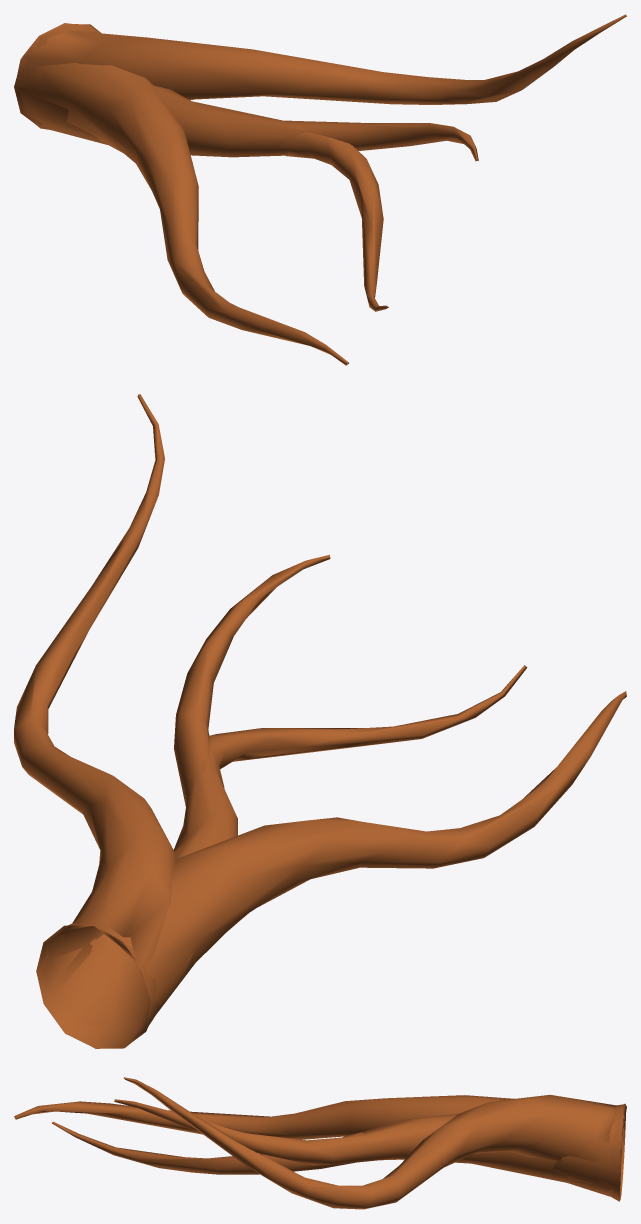
The model's file is arrayan_branch_2_LOD.fbx.
3 renders of one model, top to bottom at view 1: azimuth 30°, elevation 25°; view 2: azimuth 150°, elevation 25°; view 3: azimuth 270°, elevation 25°, orthographic. The views are drawn at different scales.
Visible parts, largest first — view 1: brunch_2_LOD0; view 2: brunch_2_LOD0; view 3: brunch_2_LOD0.
Part boxes in pixels (x1,y1,x2,y2): brunch_2_LOD0: (14, 14, 626, 365); brunch_2_LOD0: (14, 394, 626, 1048); brunch_2_LOD0: (14, 1077, 626, 1209).
Size of what is drawn, in the model's own units: 1002 by 680 by 1681.
